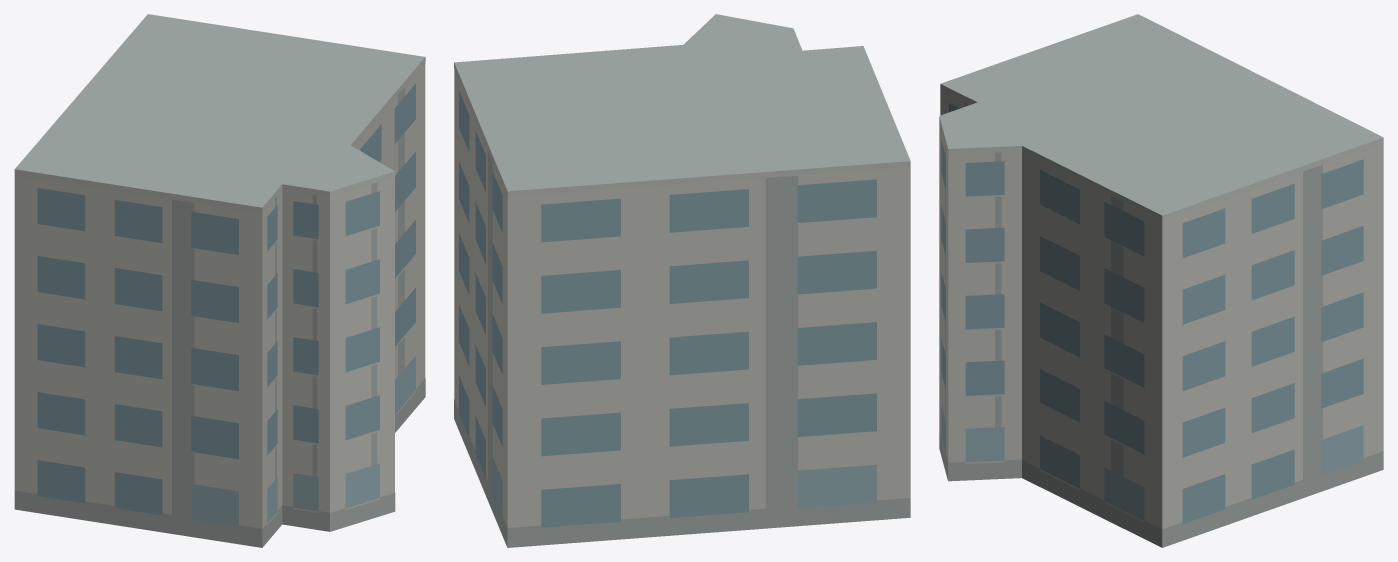
Rendered from survey-upis-32885069.glb.
The picture shows the model from 3 angles, left to right: view 1: azimuth 30°, elevation 25°; view 2: azimuth 150°, elevation 25°; view 3: azimuth 270°, elevation 25°; orthographic projection. The views are drawn at different scales.
Visible parts, largest first — view 1: survey-upis-32885069.tmp; view 2: survey-upis-32885069.tmp; view 3: survey-upis-32885069.tmp.
Part boxes in pixels (<box>): survey-upis-32885069.tmp: <box>14,14,425,547</box>; survey-upis-32885069.tmp: <box>454,14,910,547</box>; survey-upis-32885069.tmp: <box>939,14,1383,547</box>.
Size of the model in its own units: 18.62 by 14.3 by 17.34.
